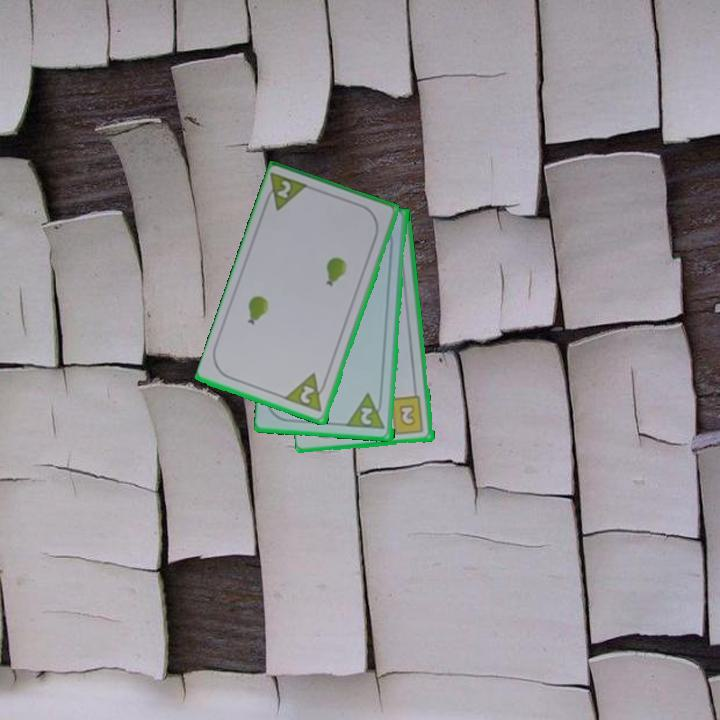2b: (384, 393, 427, 438)
2p: (260, 170, 313, 214), (282, 370, 331, 415), (357, 404, 377, 428)
